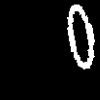chain: (67, 5, 94, 68)
